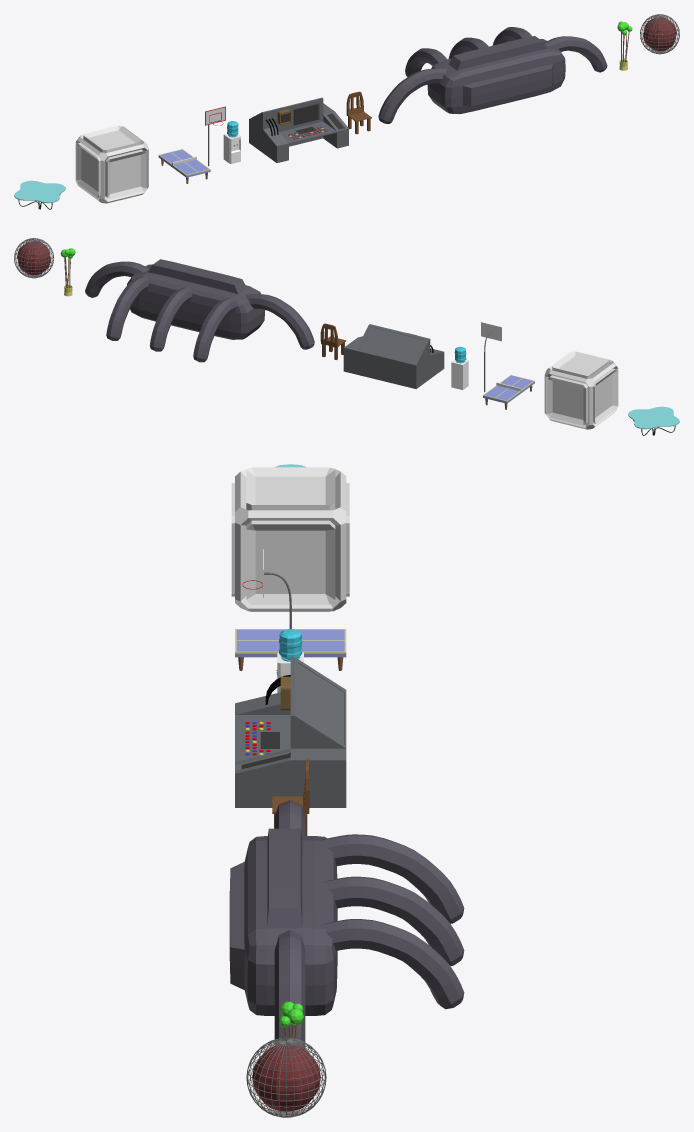
File: fixed assets.fbx
The picture shows the model from 3 angles, top to bottom: view 1: azimuth 30°, elevation 25°; view 2: azimuth 150°, elevation 25°; view 3: azimuth 270°, elevation 25°; orthographic projection. The views are drawn at different scales.
Visible parts, largest first — view 1: power generator, crate, console, ORB, table, ping pong table, water dispencer, chair, B-ball hoop, plant; view 2: power generator, crate, console, ORB, table, ping pong table, water dispencer, chair, B-ball hoop, plant; view 3: power generator, crate, console, ORB, ping pong table, water dispencer.
Boxes of the visible parts, x1=… form: power generator: x1=378, y1=27, x2=607, y2=123; crate: x1=75, y1=125, x2=148, y2=203; console: x1=249, y1=97, x2=348, y2=162; ORB: x1=640, y1=14, x2=679, y2=54; table: x1=14, y1=180, x2=65, y2=209; ping pong table: x1=158, y1=149, x2=210, y2=183; water dispencer: x1=223, y1=121, x2=240, y2=163; chair: x1=346, y1=91, x2=371, y2=134; B-ball hoop: x1=205, y1=106, x2=225, y2=166; plant: x1=617, y1=21, x2=632, y2=70; power generator: x1=85, y1=259, x2=314, y2=362; crate: x1=544, y1=351, x2=618, y2=429; console: x1=343, y1=324, x2=444, y2=388; ORB: x1=14, y1=238, x2=53, y2=278; table: x1=628, y1=406, x2=679, y2=435; ping pong table: x1=483, y1=375, x2=534, y2=409; water dispencer: x1=451, y1=346, x2=468, y2=389; chair: x1=320, y1=323, x2=346, y2=359; B-ball hoop: x1=481, y1=322, x2=501, y2=392; plant: x1=60, y1=248, x2=75, y2=296; power generator: x1=229, y1=800, x2=464, y2=1048; crate: x1=231, y1=467, x2=349, y2=611; console: x1=235, y1=657, x2=346, y2=807; ORB: x1=246, y1=1037, x2=326, y2=1117; ping pong table: x1=235, y1=624, x2=346, y2=670; water dispencer: x1=276, y1=629, x2=303, y2=692.
Size of the model in its own units: 2740 by 263 by 422.
